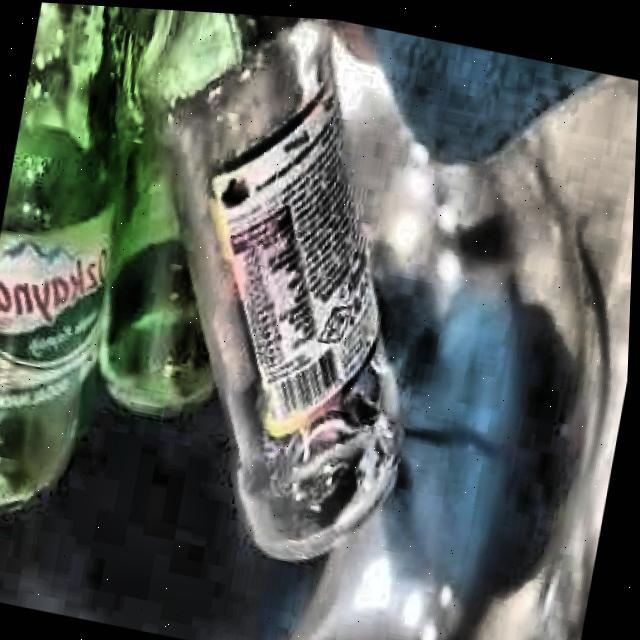glass: (0, 2, 405, 557)
